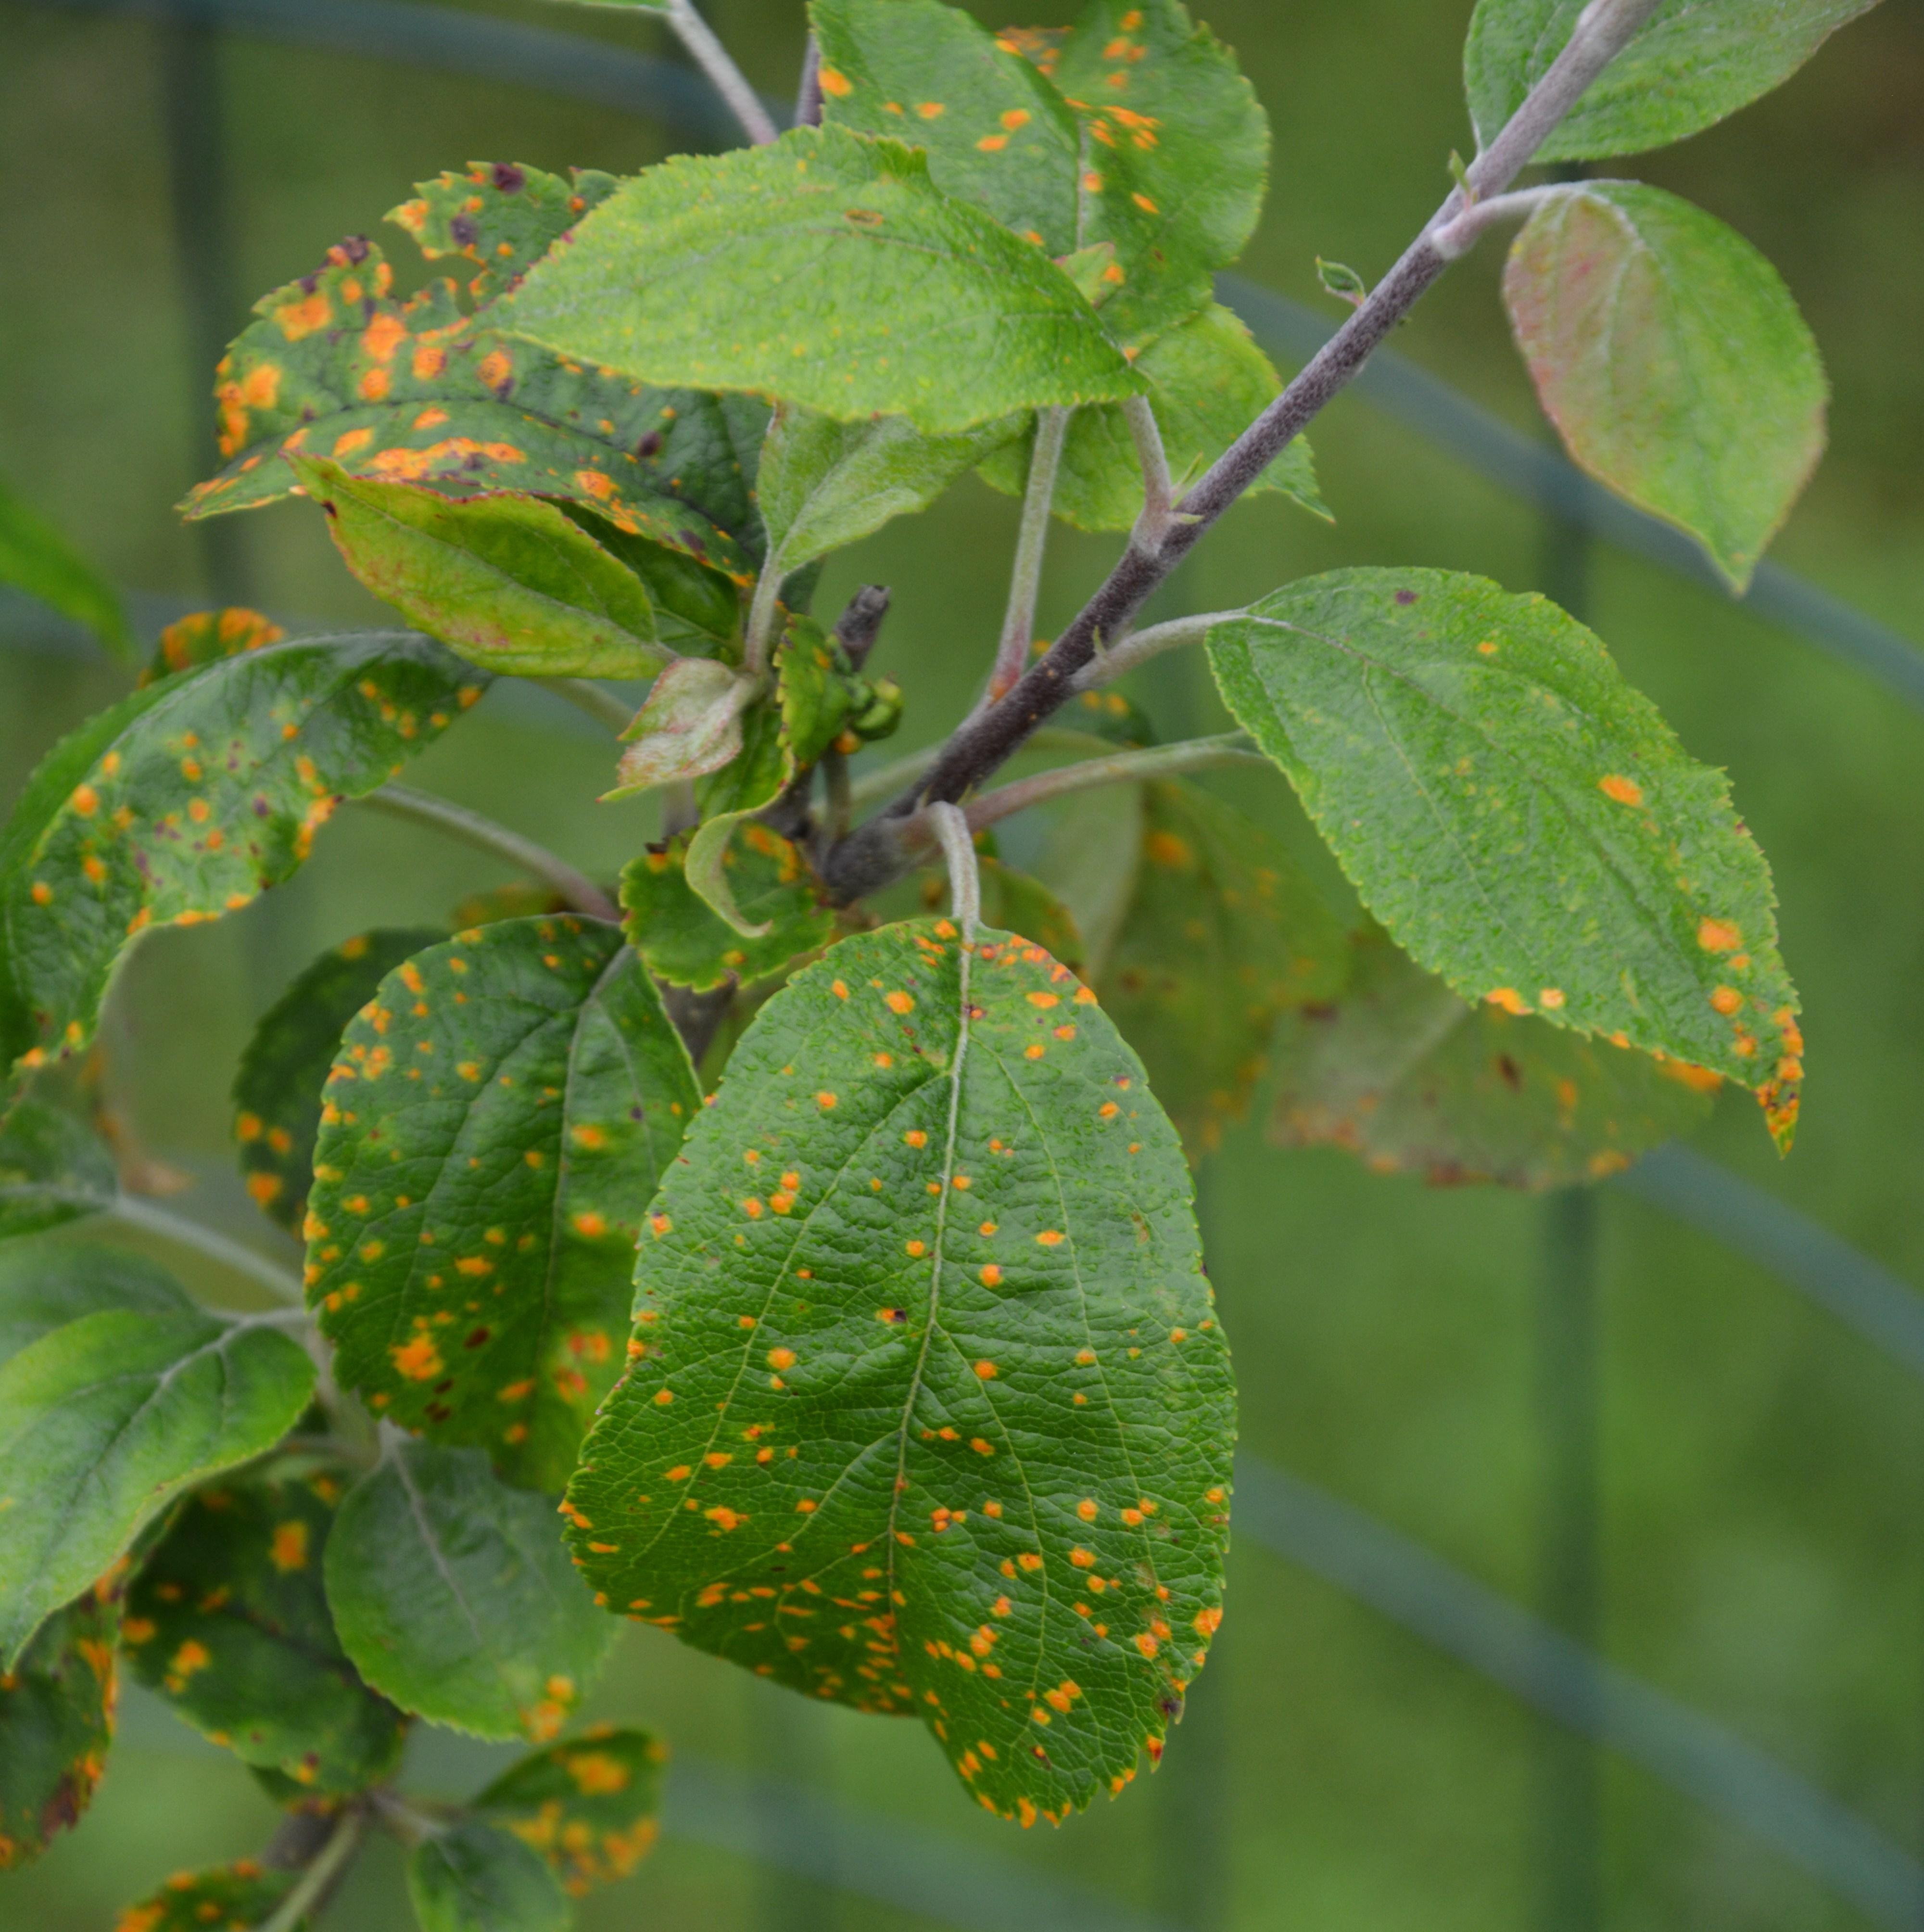Apple rust leaf: (555, 866, 1297, 1904), (1177, 538, 1848, 1197), (322, 853, 745, 1629), (173, 162, 798, 638), (7, 603, 497, 1052), (788, 0, 1313, 402)
